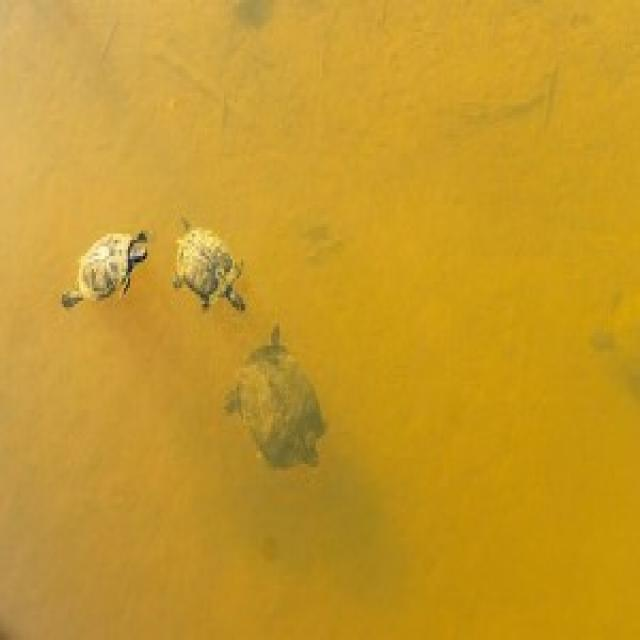Sea turtle: (213, 332, 344, 479), (64, 216, 152, 325), (166, 207, 253, 306)
